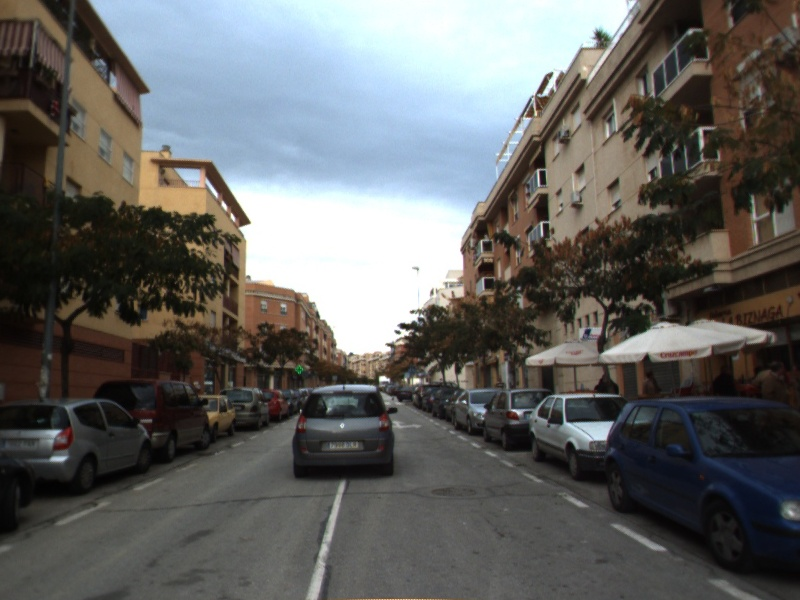STRAIGHT_RIGHT: (390, 417, 424, 431)
